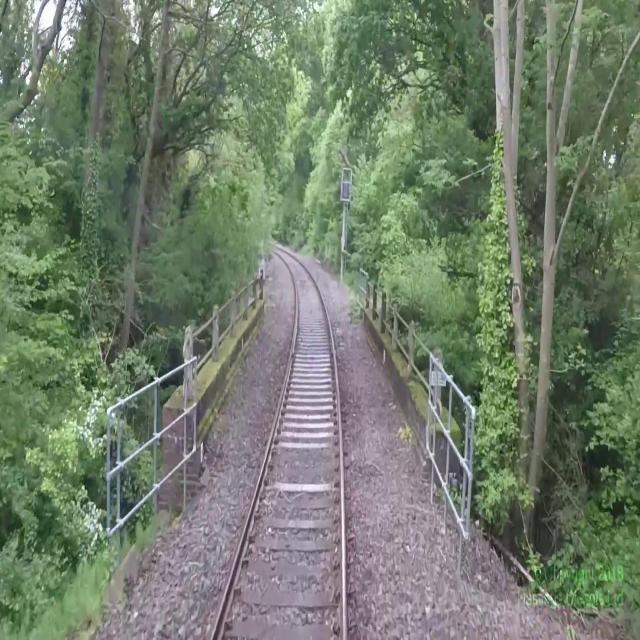rail-track: (213, 245, 342, 639)
